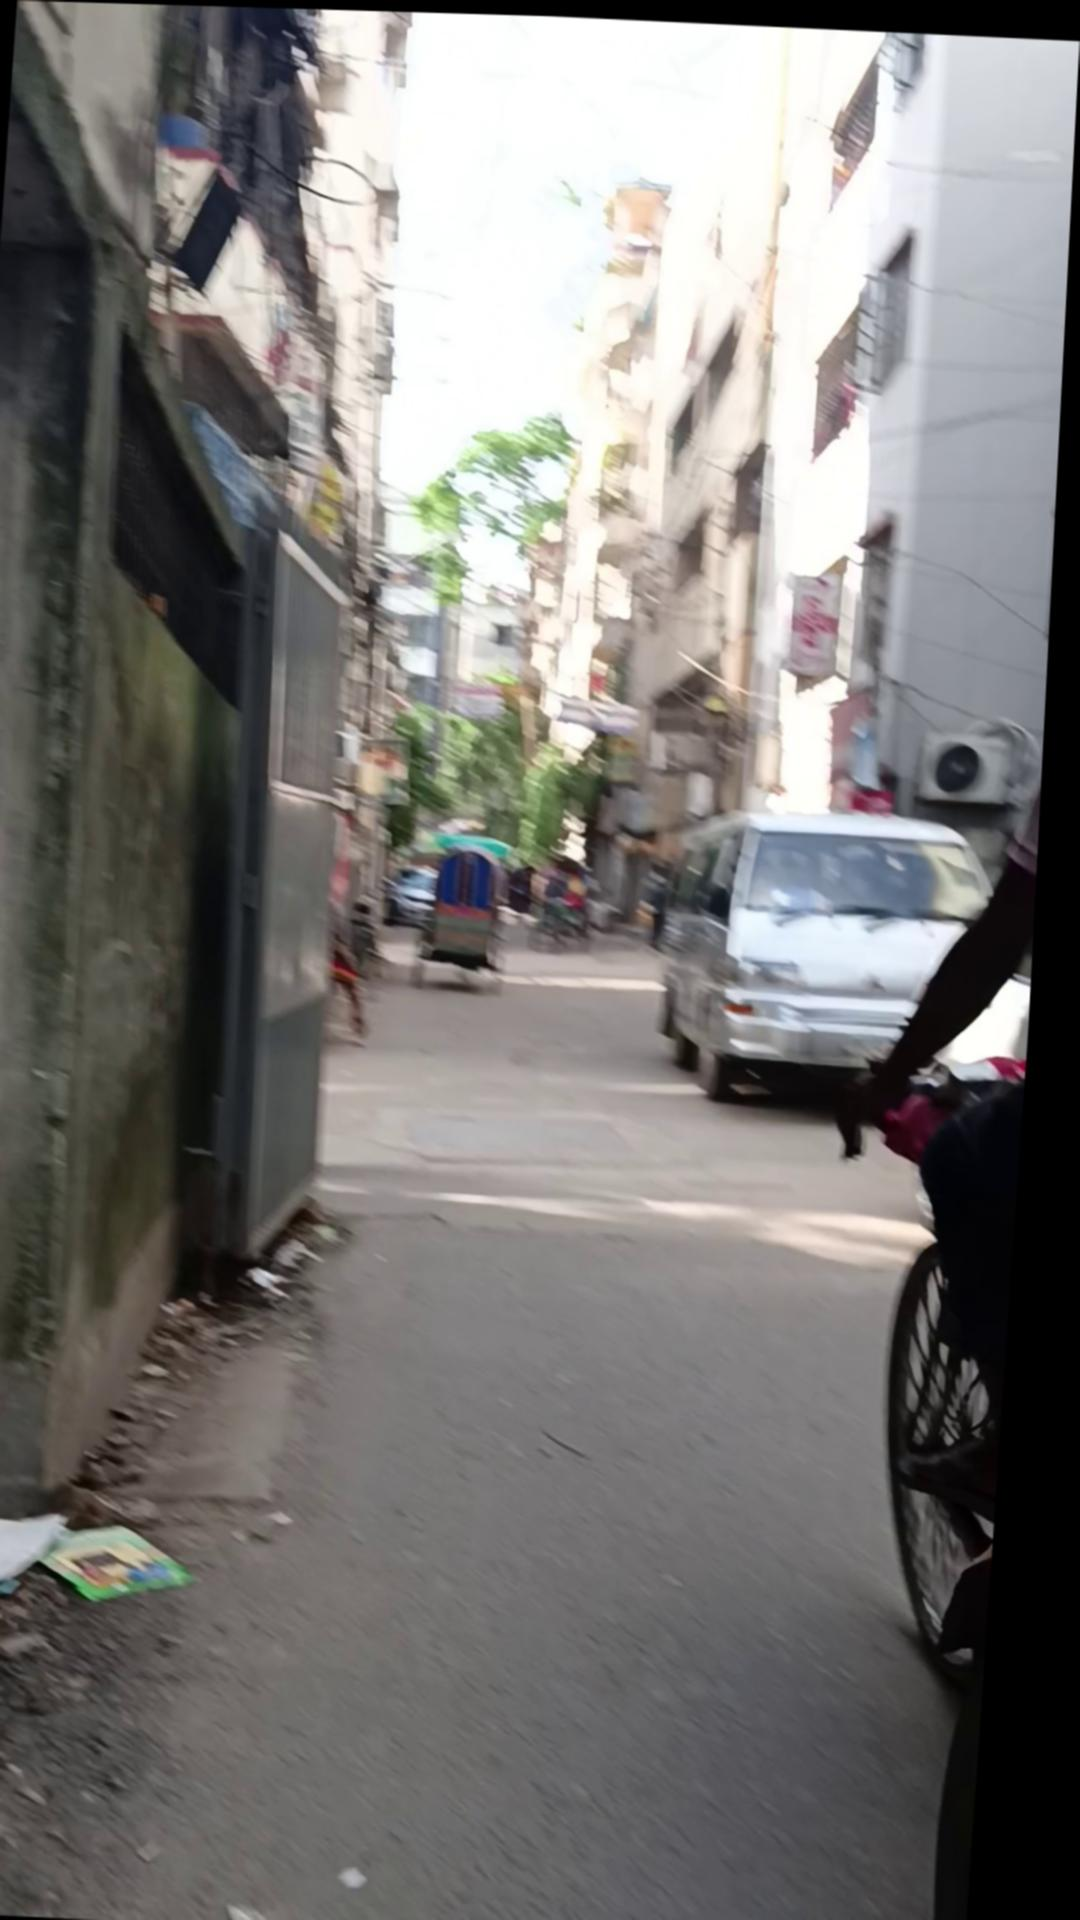Car: (654, 795, 1017, 1110)
Garbage: (0, 1484, 237, 1663)
Light-pole: (812, 1034, 1035, 1675)
Pothole: (880, 1224, 1023, 1672), (417, 898, 518, 992)
